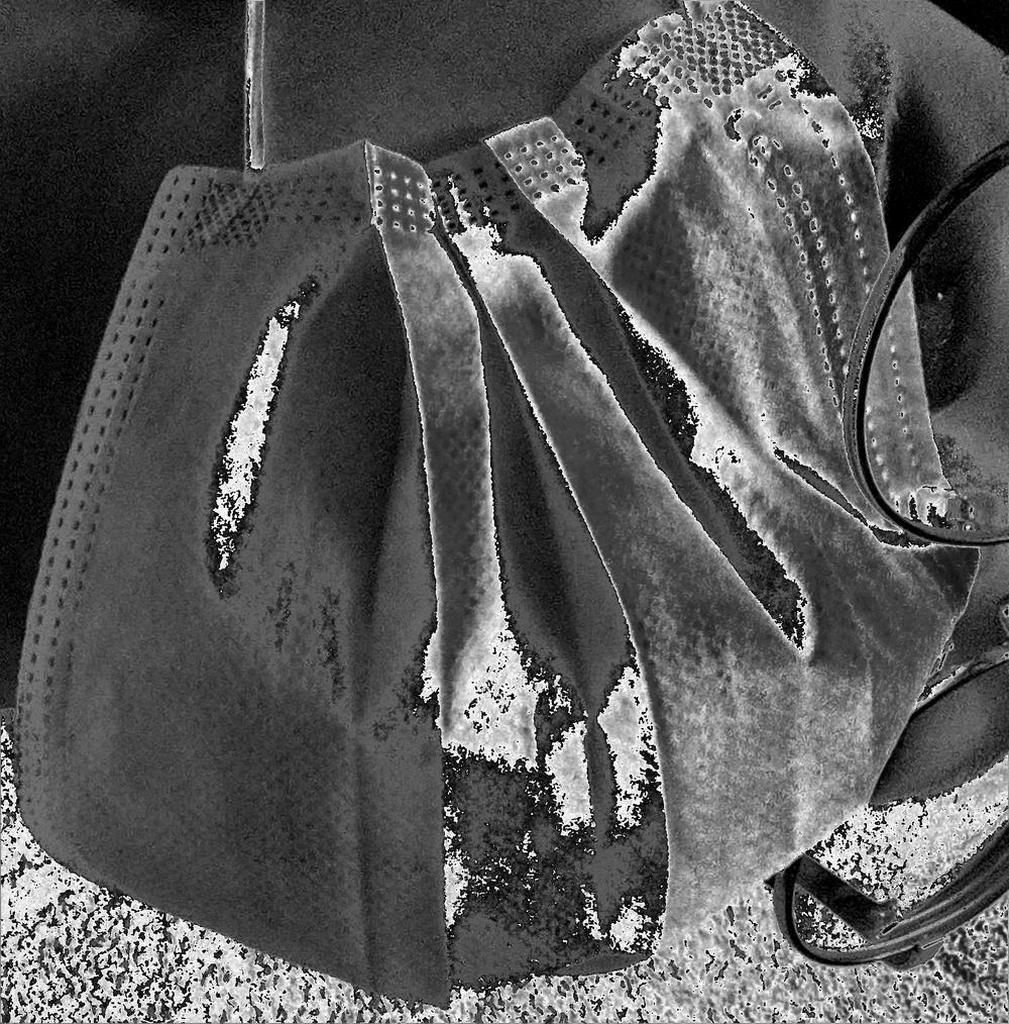Low GSM: (9, 4, 983, 1018)
